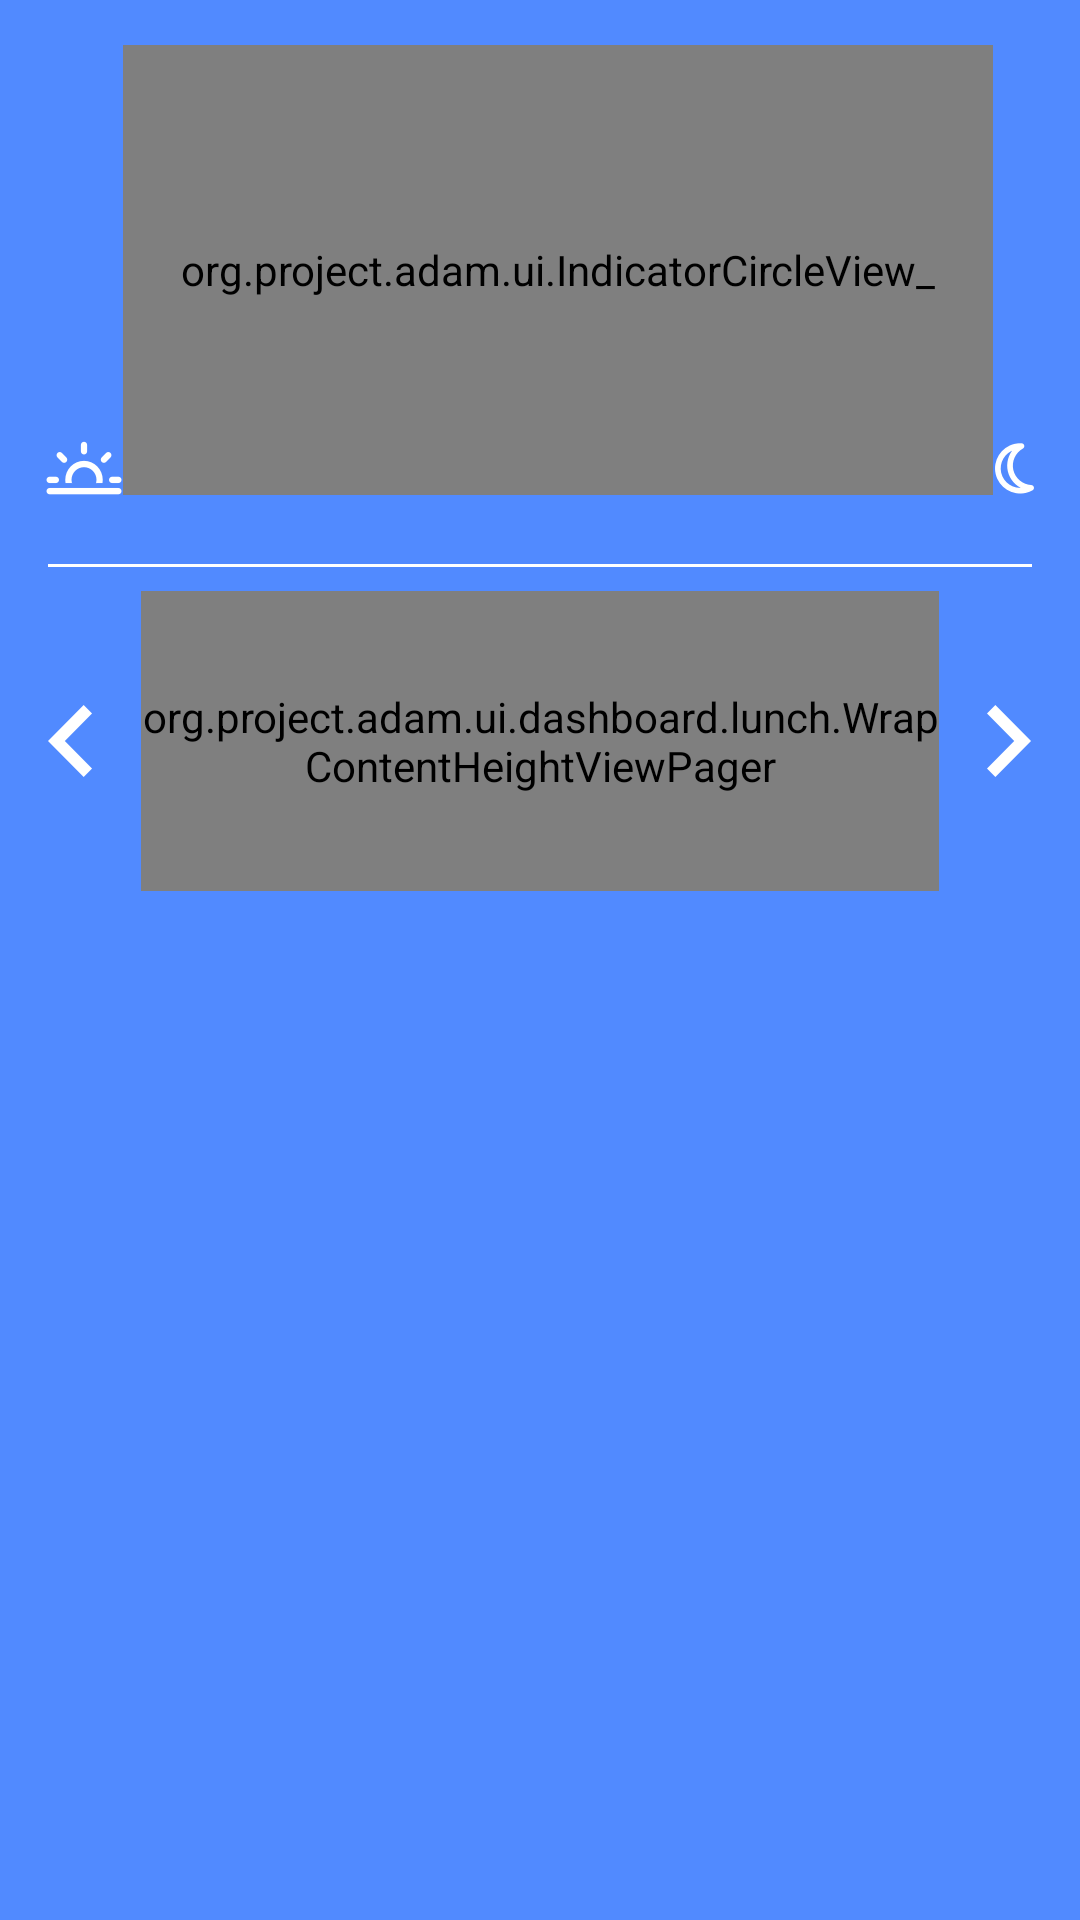

Named icons in this screenshot (1080px×1920px) and their centers, (x=x, y=y):
arrow left: (x=70, y=741)
arrow right: (x=1009, y=741)
dashboard moon: (x=1014, y=468)
dashboard sun: (x=84, y=468)
